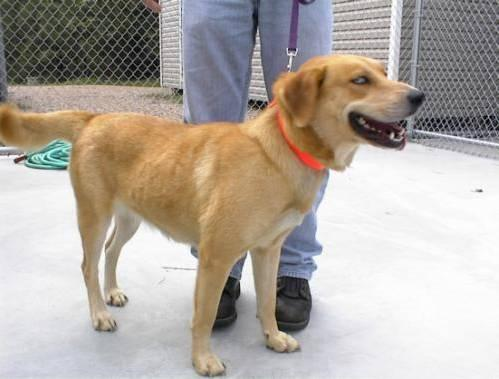dog: (0, 54, 424, 374)
